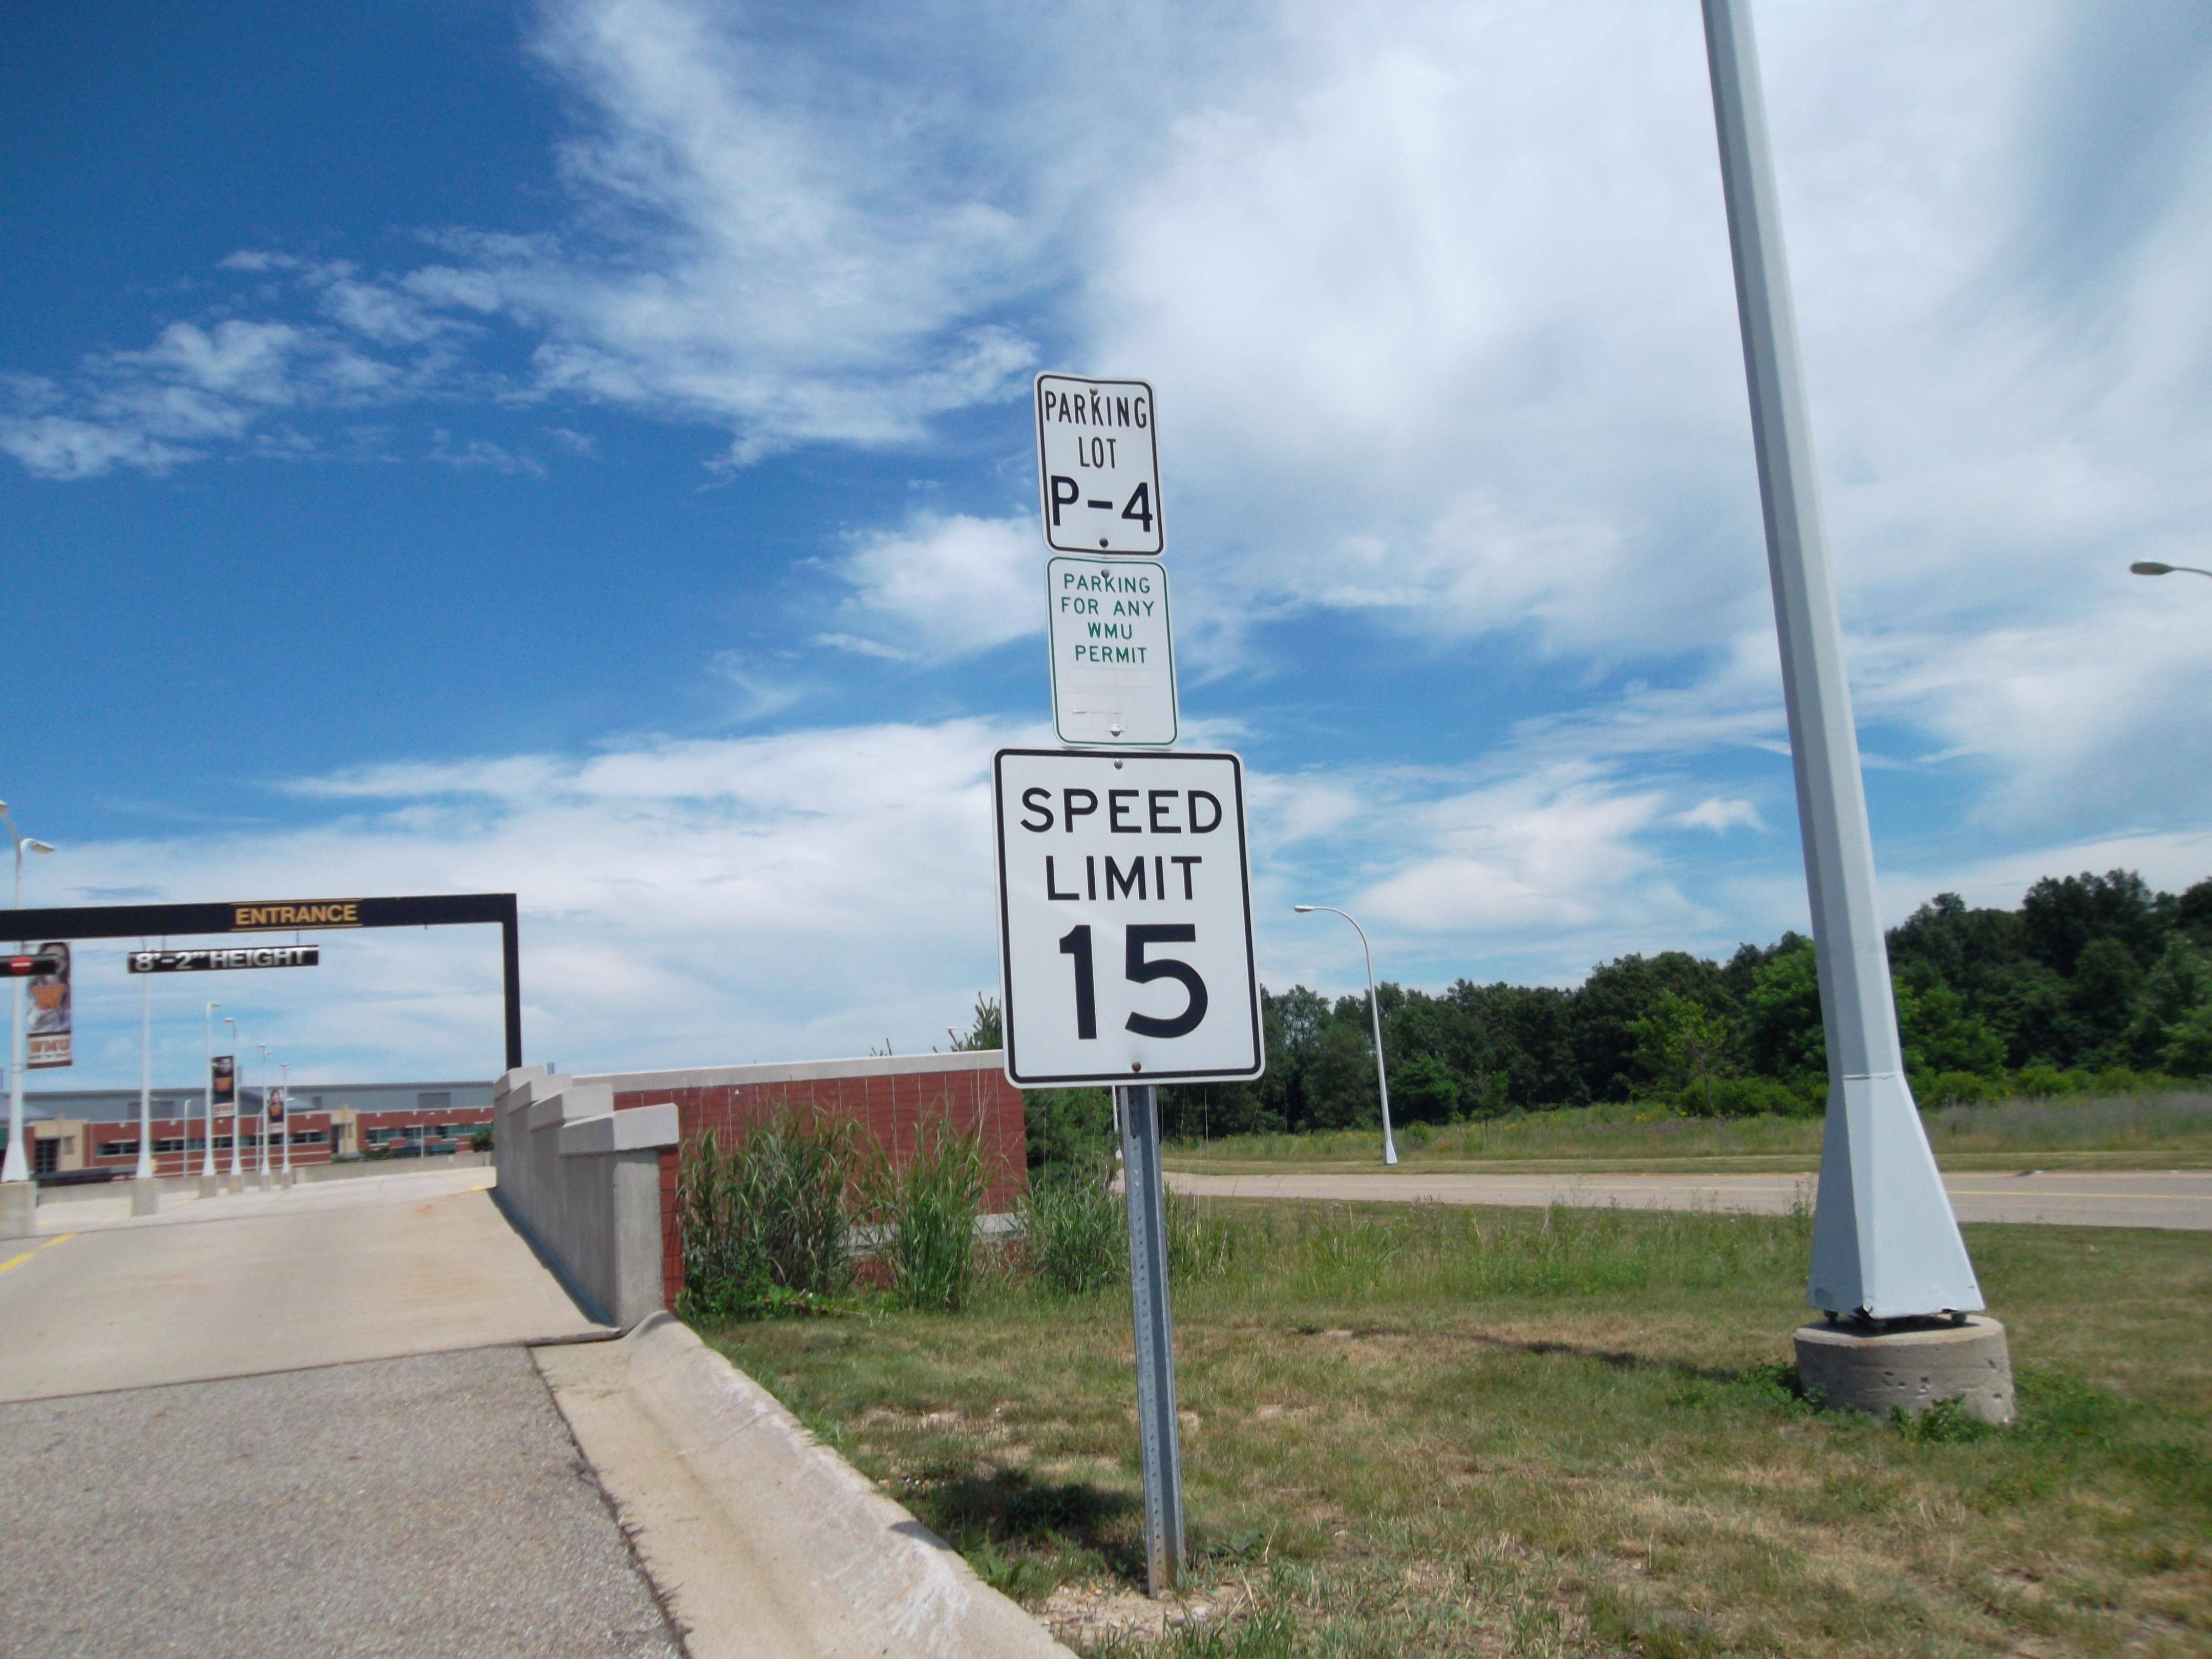regulatory: (984, 741, 1282, 1098), (1033, 556, 1193, 755), (1029, 364, 1174, 556)
